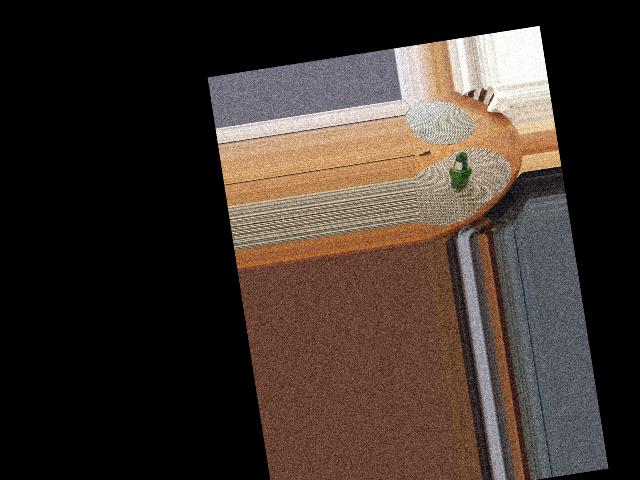beer: (447, 151, 475, 190)
